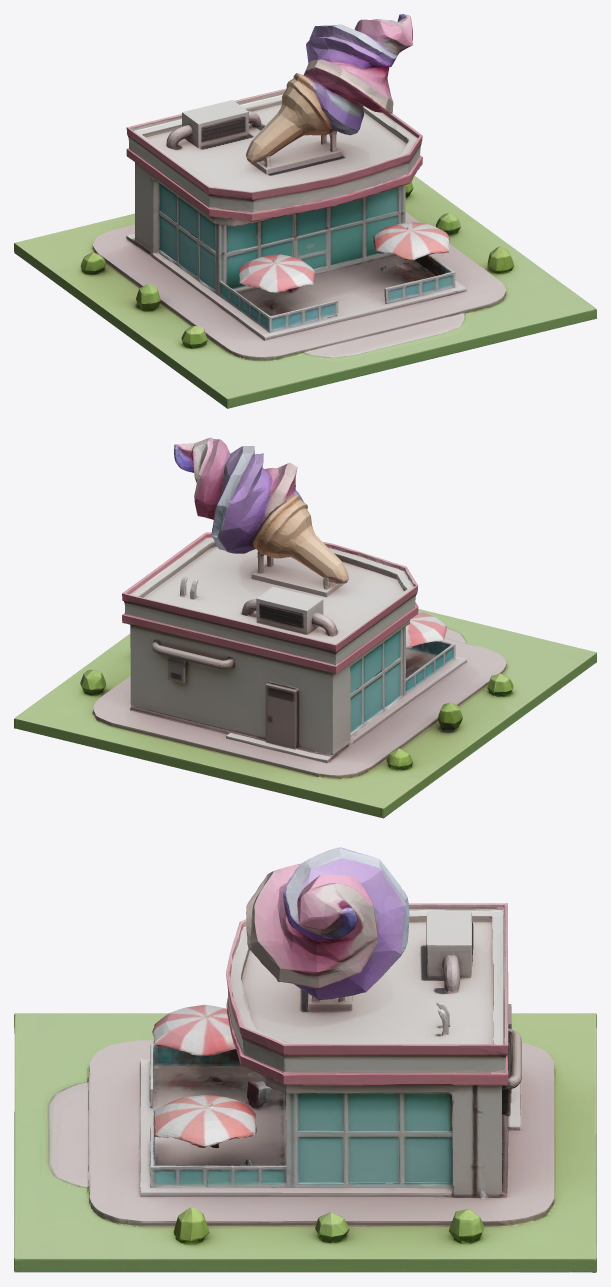
The model's file is diner_source.glb.
3 views of the same model, one above another, from view 1: azimuth 30°, elevation 25°; view 2: azimuth 150°, elevation 25°; view 3: azimuth 270°, elevation 25° (orthographic). The views are drawn at different scales.
Parts seen in each view (by area): view 1: world; view 2: world; view 3: world.
Part boxes in pixels (x1=…): world: x1=14, y1=14, x2=596, y2=408; world: x1=14, y1=437, x2=596, y2=818; world: x1=14, y1=847, x2=596, y2=1272.
Size of the model in its own units: 1 by 0.6244 by 1.
1 material, 1 textured.
